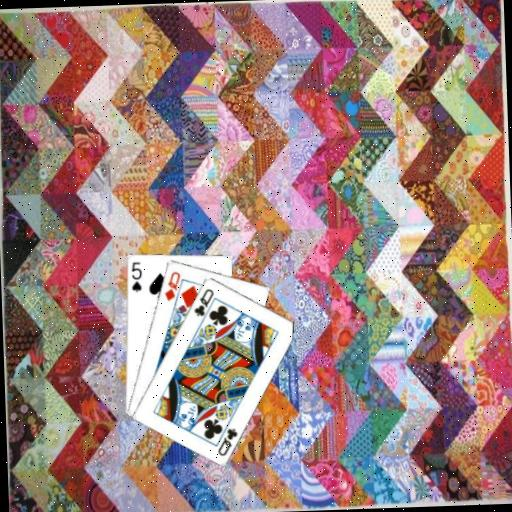5S: (127, 258, 144, 293)
QC: (213, 424, 240, 457), (190, 285, 216, 318)
QD: (160, 267, 183, 302)
